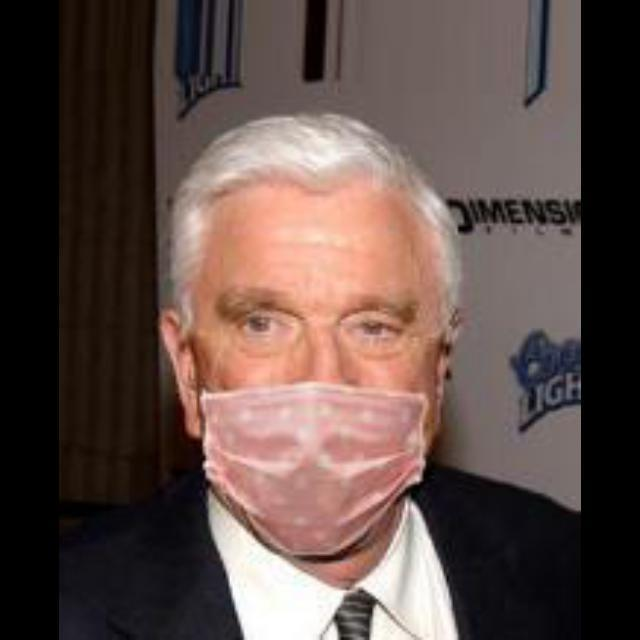suspicion: (178, 193, 484, 551)
